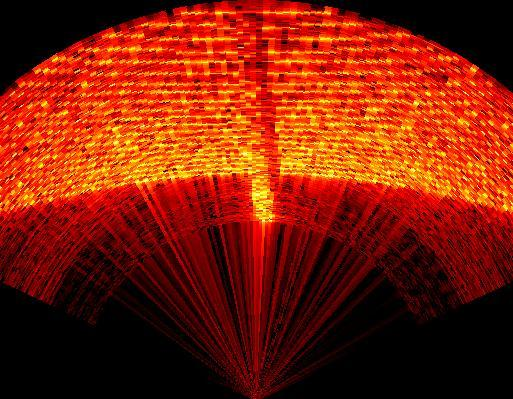pipe: (222, 5, 285, 226)
